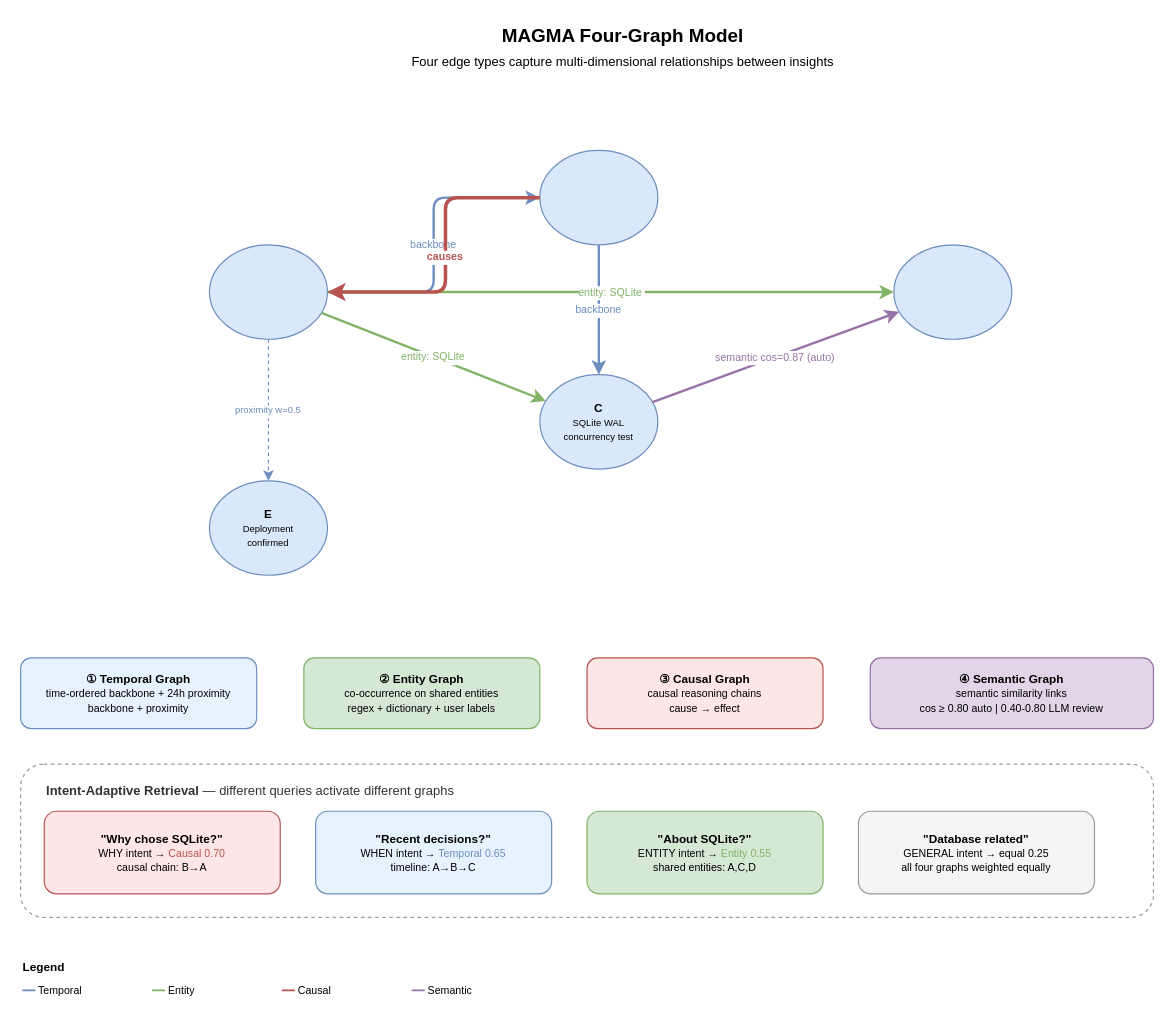
Some shapes in this 1174 by 1017 pixel diagram are drawn without their labels. Each missing label, with the box of its shape:
A Chose SQLite for storage: (208, 244, 327, 339)
B Team lacks Redis experience: (539, 149, 658, 245)
D DB selection comparison: (893, 244, 1012, 339)
